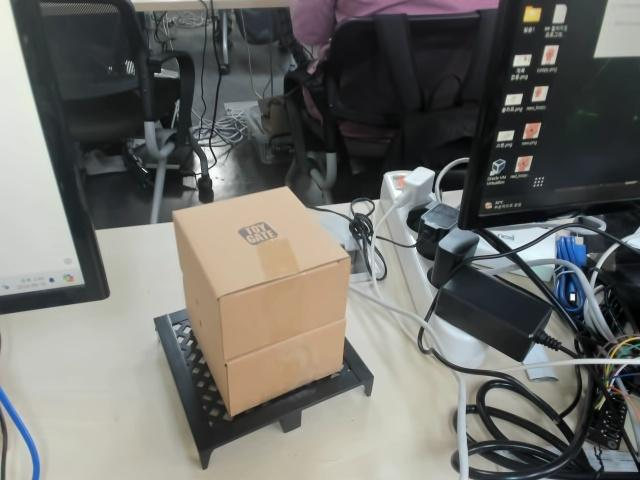box: (152, 182, 377, 473)
